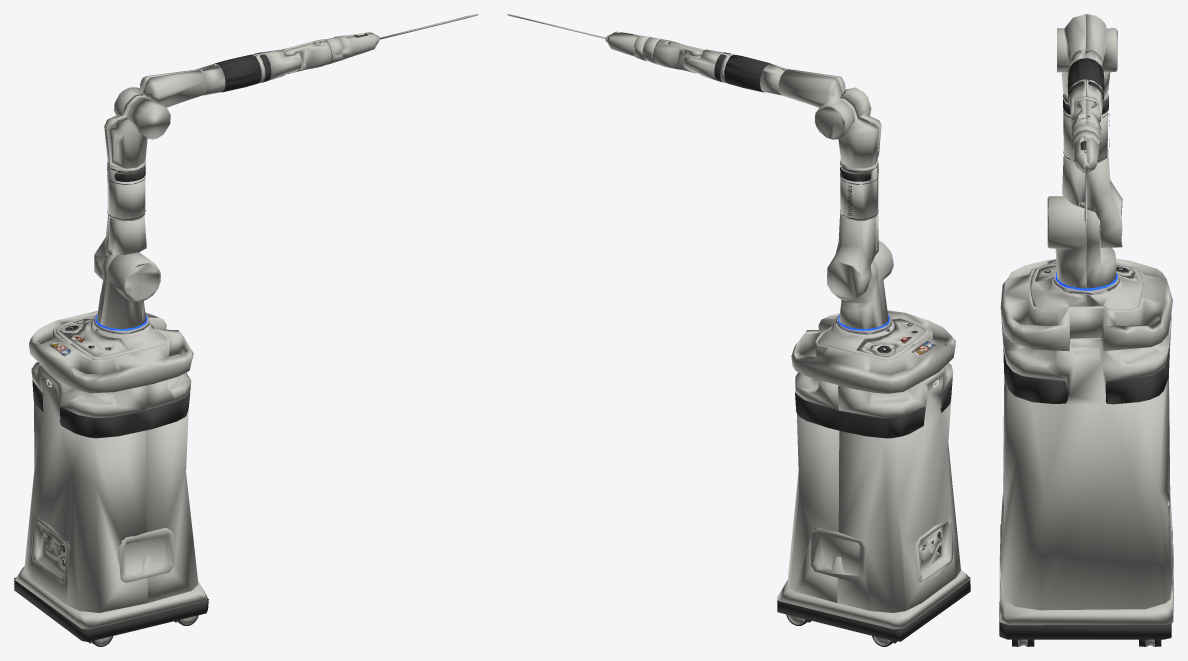
Rendered from arm.glb.
3 renders of one model, left to right at view 1: azimuth 30°, elevation 25°; view 2: azimuth 150°, elevation 25°; view 3: azimuth 270°, elevation 25°, orthographic. The views are drawn at different scales.
Parts seen in each view (by area): view 1: body_01_mesh_00, armShoulder_01_mesh_00, armShoulder_02_mesh_00, armBase_01_mesh_00, armheight_01_mesh_00, armShoulder_04_mesh_00, armShoulder_03_mesh_00; view 2: body_01_mesh_00, armShoulder_01_mesh_00, armShoulder_02_mesh_00, armheight_01_mesh_00, armBase_01_mesh_00, armShoulder_04_mesh_00, armShoulder_03_mesh_00; view 3: body_01_mesh_00, armShoulder_01_mesh_00, armBase_01_mesh_00, armheight_01_mesh_00, armShoulder_02_mesh_00, armShoulder_04_mesh_00, armShoulder_03_mesh_00.
Part boxes in pixels (bbox=[...]): body_01_mesh_00: bbox=[14, 310, 208, 641]; armShoulder_01_mesh_00: bbox=[94, 94, 170, 279]; armShoulder_02_mesh_00: bbox=[114, 54, 261, 119]; armBase_01_mesh_00: bbox=[96, 252, 160, 329]; armheight_01_mesh_00: bbox=[55, 314, 166, 359]; armShoulder_04_mesh_00: bbox=[282, 14, 478, 73]; armShoulder_03_mesh_00: bbox=[251, 49, 302, 83]; body_01_mesh_00: bbox=[777, 310, 970, 641]; armShoulder_01_mesh_00: bbox=[827, 87, 881, 300]; armShoulder_02_mesh_00: bbox=[724, 54, 854, 139]; armheight_01_mesh_00: bbox=[817, 314, 929, 360]; armBase_01_mesh_00: bbox=[839, 240, 893, 328]; armShoulder_04_mesh_00: bbox=[507, 14, 703, 73]; armShoulder_03_mesh_00: bbox=[683, 49, 733, 83]; body_01_mesh_00: bbox=[999, 258, 1173, 639]; armShoulder_01_mesh_00: bbox=[1057, 28, 1122, 247]; armBase_01_mesh_00: bbox=[1047, 196, 1116, 288]; armheight_01_mesh_00: bbox=[1030, 264, 1142, 310]; armShoulder_02_mesh_00: bbox=[1064, 14, 1117, 95]; armShoulder_04_mesh_00: bbox=[1071, 99, 1101, 225]; armShoulder_03_mesh_00: bbox=[1068, 79, 1103, 122].
Size of the model in its own units: 1.28 by 1.5 by 0.3798.
12 materials, 9 textured.
